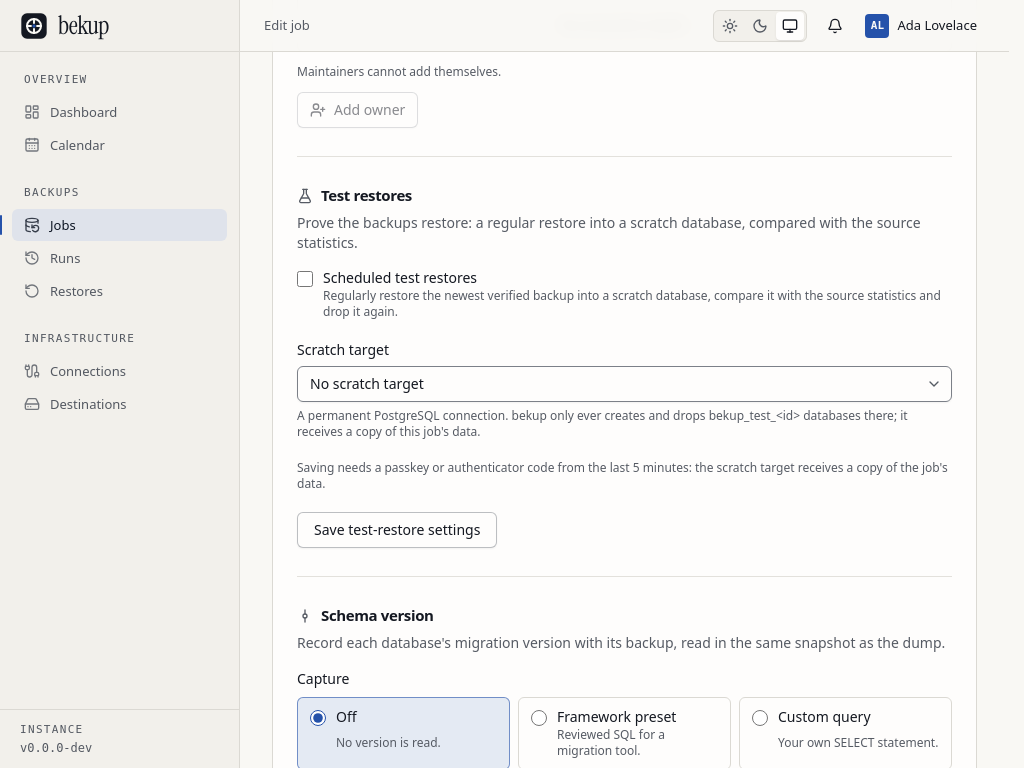
Test: test-restore settings › tells maintainers that a privileged target needs an admin
(page scrolled)
Step 1. Select "scratch-pg" in the dropdown labelled "Scratch target" → (624,384), box [297,366,952,402]
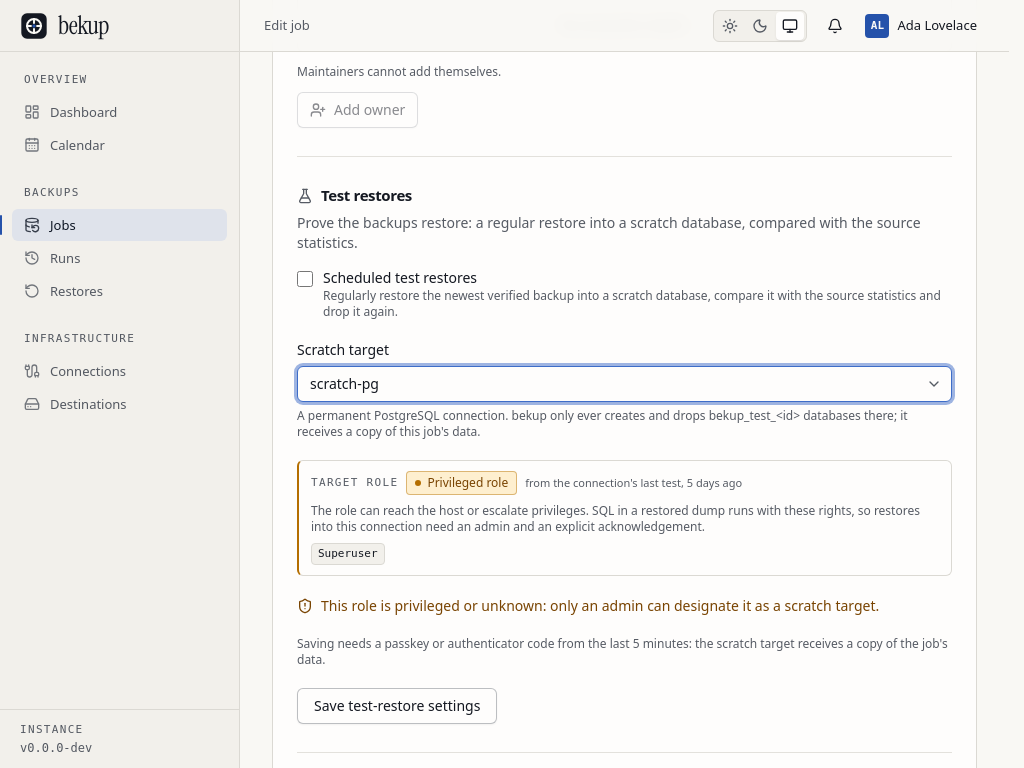
Now the text "only an admin can designate it" is shown, box [321,596,879,615]
